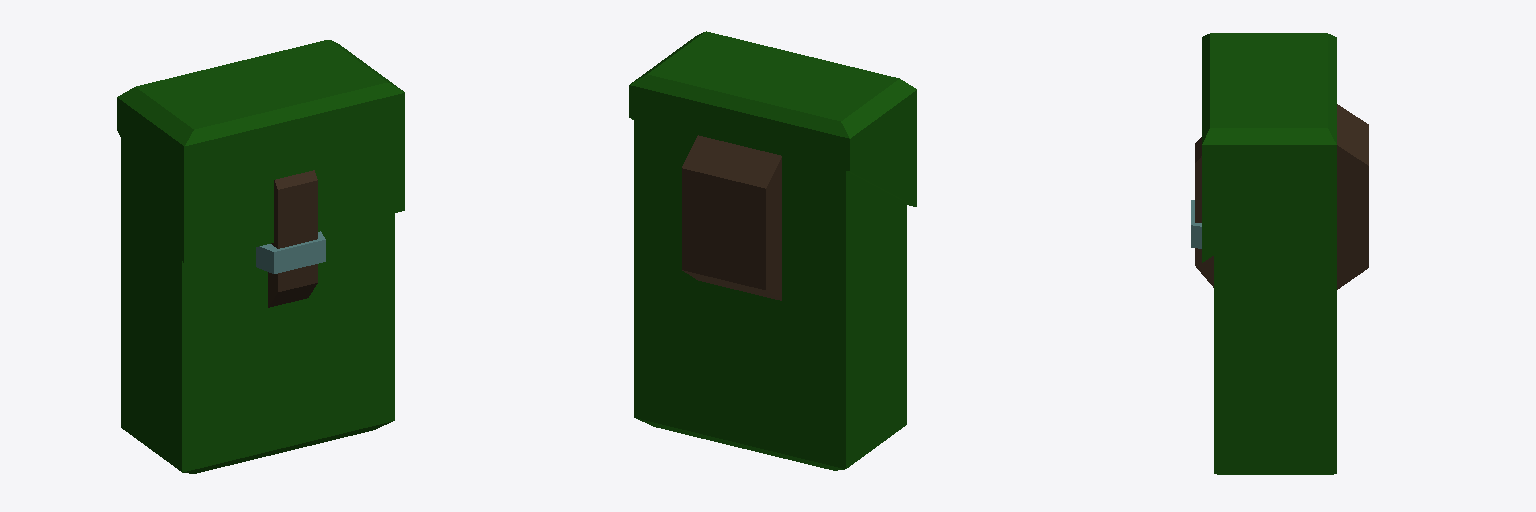
File: holsterbag.obj
3 views of the same model, side by side, from view 1: azimuth 30°, elevation 25°; view 2: azimuth 150°, elevation 25°; view 3: azimuth 270°, elevation 25° (orthographic).
Parts seen in each view (by area): view 1: camo, ribbon, steel; view 2: camo, ribbon; view 3: camo, ribbon.
Boxes of the visible parts, box(x1,y1,x2,y2) form: camo: box(117, 40, 404, 473); ribbon: box(268, 170, 317, 307); steel: box(256, 231, 325, 273); camo: box(629, 31, 916, 470); ribbon: box(682, 135, 781, 300); camo: box(1202, 33, 1336, 474); ribbon: box(1195, 104, 1368, 289).
Bounding box in the file's own units: 3.36 × 5.1 × 2.35.